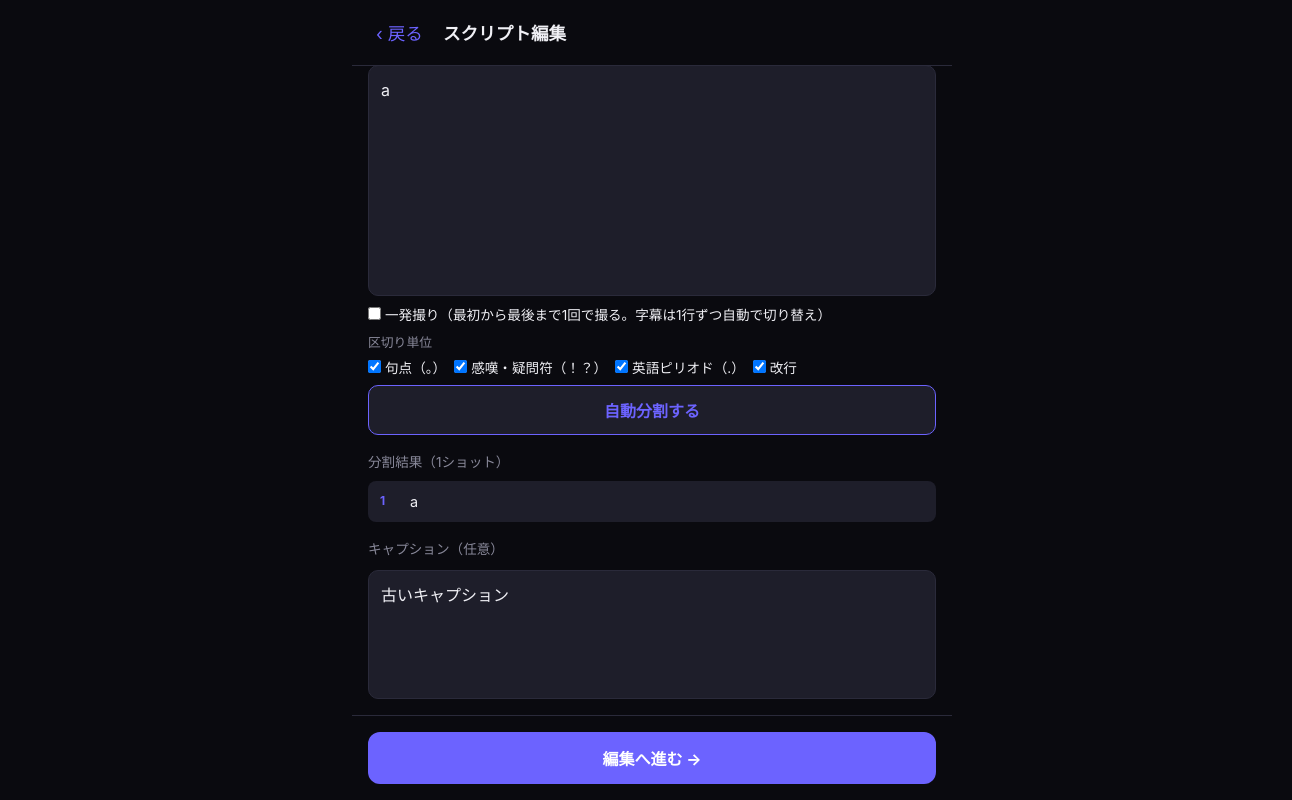
Test: ScriptEditPage caption › edits the caption of an existing script
(page scrolled)
Replace the text in the text box labelled "キャプション（任意）" with "新しいキャプション" at (652, 635), box [368, 570, 936, 699]
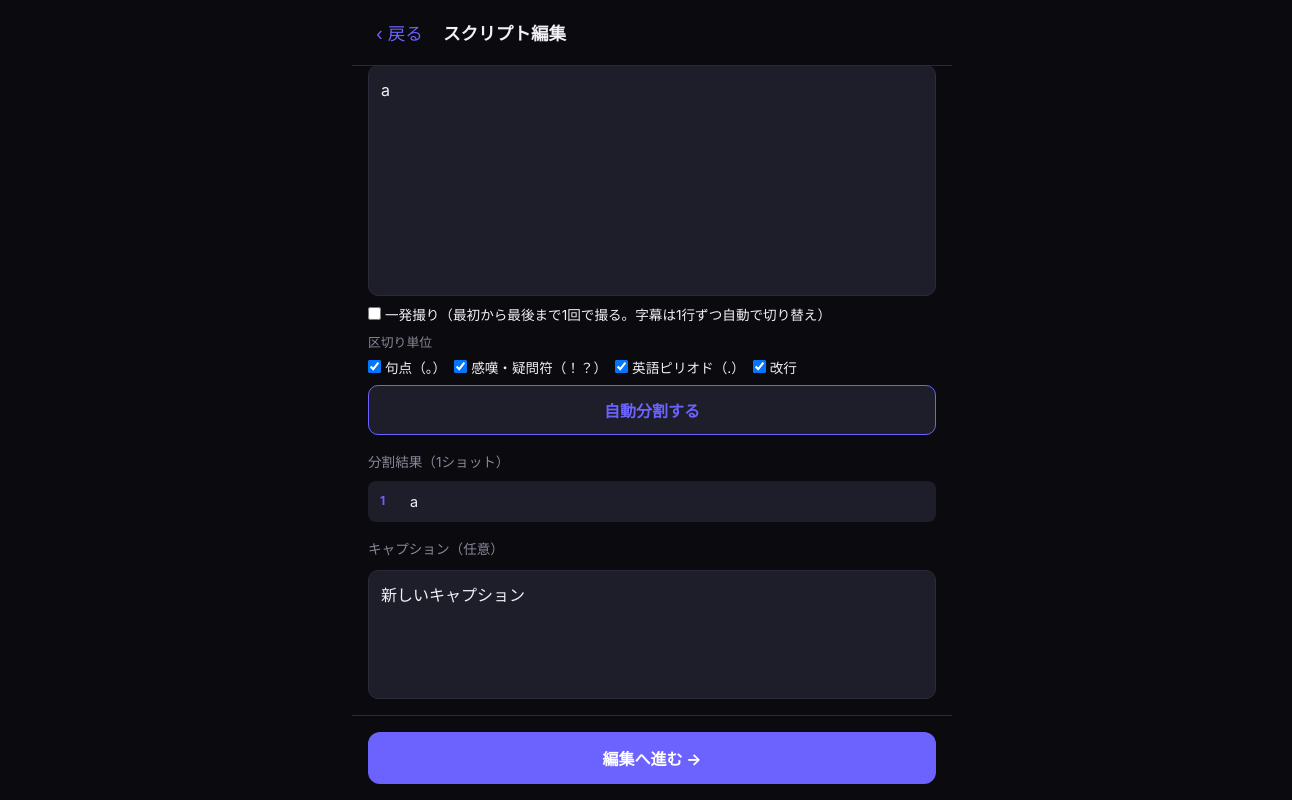
Click the button "編集へ進む →".
click(652, 758)  # box [368, 732, 936, 784]
(page scrolled)
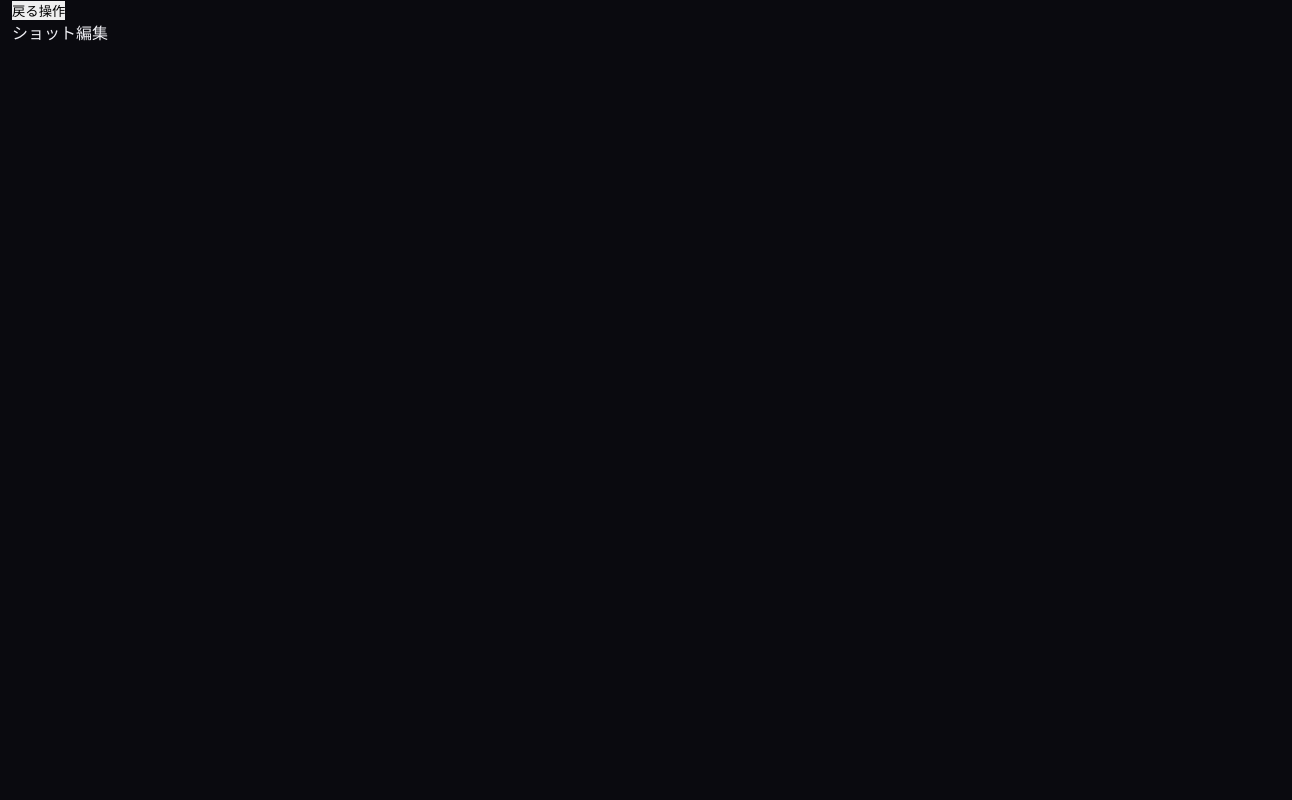
Now the text "ショット編集" is shown, box [12, 23, 108, 43]
